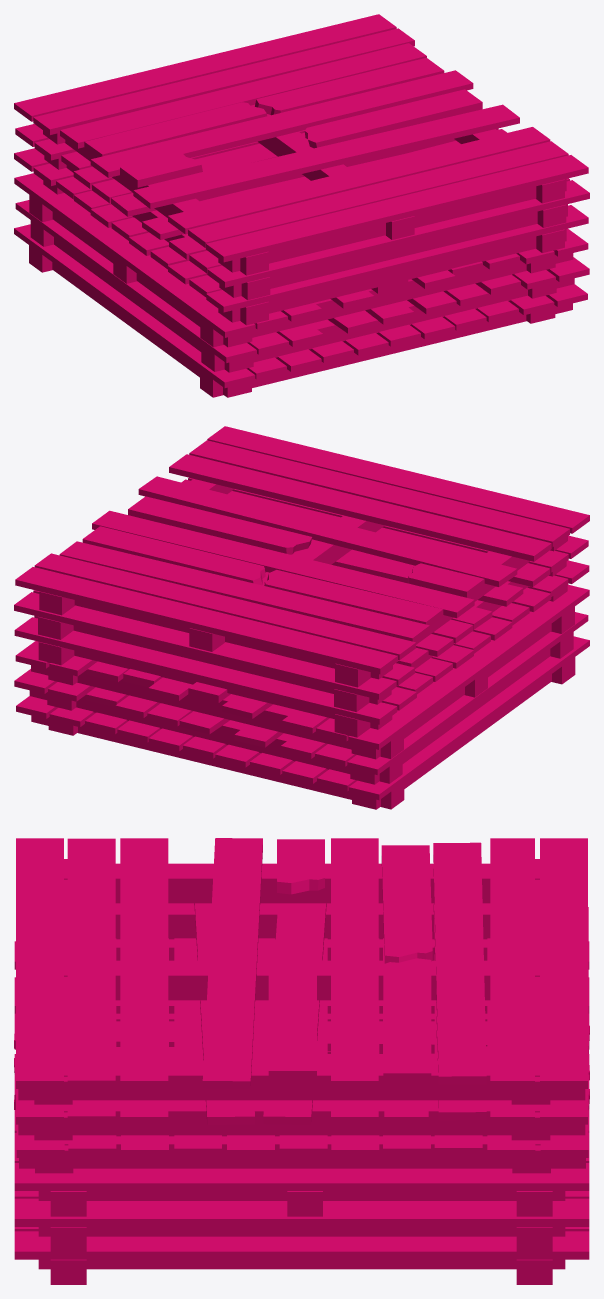
The model's file is Wood_W_Pile_01_Lod0.fbx.
3 renders of one model, top to bottom at view 1: azimuth 30°, elevation 25°; view 2: azimuth 150°, elevation 25°; view 3: azimuth 270°, elevation 25°, orthographic. The views are drawn at different scales.
Parts seen in each view (by area): view 1: Wood_W_Pile_01_Lod0; view 2: Wood_W_Pile_01_Lod0; view 3: Wood_W_Pile_01_Lod0.
Boxes of the visible parts, x1,y1,x2,y2 form: Wood_W_Pile_01_Lod0: (14,14,589,397); Wood_W_Pile_01_Lod0: (14,426,589,809); Wood_W_Pile_01_Lod0: (14,838,589,1284).
Size of the model in its own units: 301 by 121 by 300.
